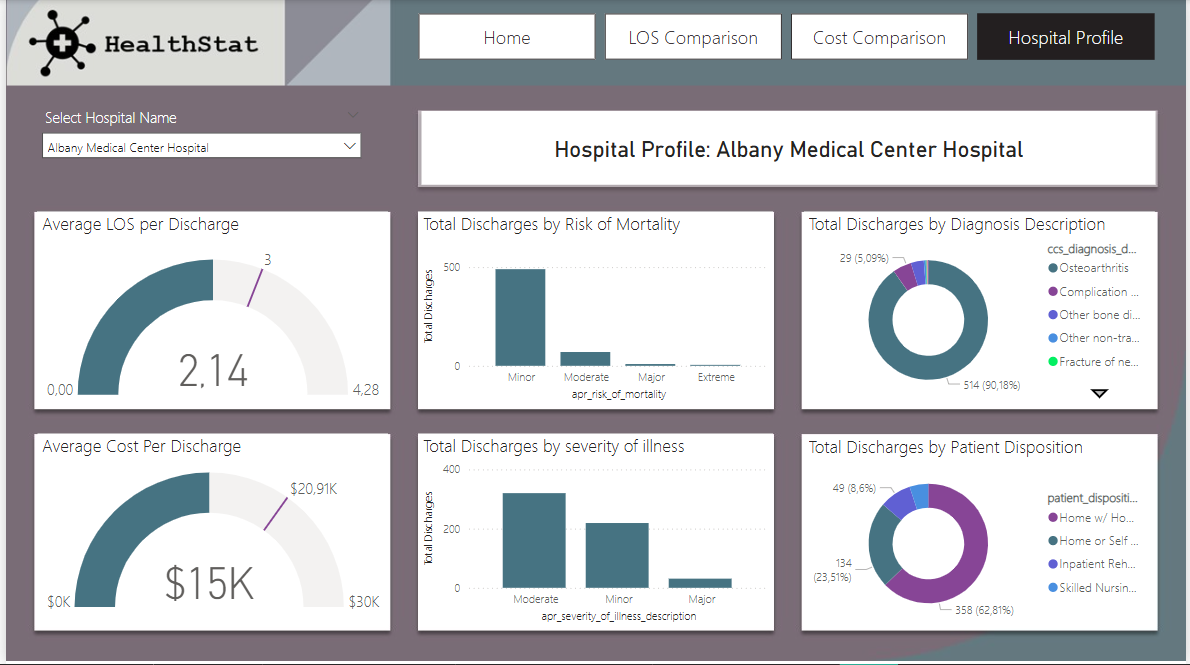

Layout of this report page (visuals, bound fields, positions):
{"tool":"powerbi","page":{"name":"Hospital Profile","canvas":[1280,720],"ordinal":3},"visuals":[{"type":"gauge","title":"Average LOS per Discharge","fields":{"Y":["_Measures.AVG of LOS"],"TargetValue":["_Measures.Average Per LOS ALL"]},"box":[34,230,380,210],"z":0},{"type":"gauge","title":"Average Cost Per Discharge","fields":{"Y":["_Measures.Average Cost Per Discharge"],"TargetValue":["_Measures.Average Cost per Discharge ALL"]},"box":[34,470,380,210],"z":1000},{"type":"clusteredColumnChart","title":"Total Discharges by Risk of Mortality","fields":{"Y":["_Measures.Total Discharges"],"Category":["hospital_discharges.apr_risk_of_mortality"]},"box":[448,230,384,210],"z":2000},{"type":"clusteredColumnChart","title":"Total Discharges by severity of illness","fields":{"Y":["_Measures.Total Discharges"],"Category":["hospital_discharges.apr_severity_of_illness_description"]},"box":[448,470,384,210],"z":3000},{"type":"donutChart","title":"Total Discharges by Diagnosis Description","fields":{"Y":["_Measures.Total Discharges"],"Category":["hospital_discharges.ccs_diagnosis_description"]},"box":[866,230,380,210],"z":4000},{"type":"donutChart","title":"Total Discharges by Patient Disposition","fields":{"Y":["_Measures.Total Discharges"],"Category":["hospital_discharges.patient_disposition"]},"box":[866,472,380,210],"z":5000},{"type":"slicer","fields":{"Values":["Surgical_program_volume_summary.facility_name"]},"box":[30,110,366,62],"z":6000},{"type":"card","fields":{"Values":["_Measures.Title Selected Facility"]},"box":[450,120,796,80],"z":7000},{"type":"pageNavigator","box":[448,14,800,50],"z":8000}]}

Visuals, with their boxes in screenshot pixels (x1, y1, x2, y2), scaled from the page's 1280x720 canvas onto the 1190x665 screenshot:
"Average LOS per Discharge" gauge: BBox(32, 212, 385, 406)
"Average Cost Per Discharge" gauge: BBox(32, 434, 385, 628)
"Total Discharges by Risk of Mortality" clusteredColumnChart: BBox(416, 212, 774, 406)
"Total Discharges by severity of illness" clusteredColumnChart: BBox(416, 434, 774, 628)
"Total Discharges by Diagnosis Description" donutChart: BBox(805, 212, 1158, 406)
"Total Discharges by Patient Disposition" donutChart: BBox(805, 436, 1158, 630)
slicer - Surgical_program_volume_summary.facility_name: BBox(28, 102, 368, 159)
card - _Measures.Title Selected Facility: BBox(418, 111, 1158, 185)
pageNavigator: BBox(416, 13, 1160, 59)
